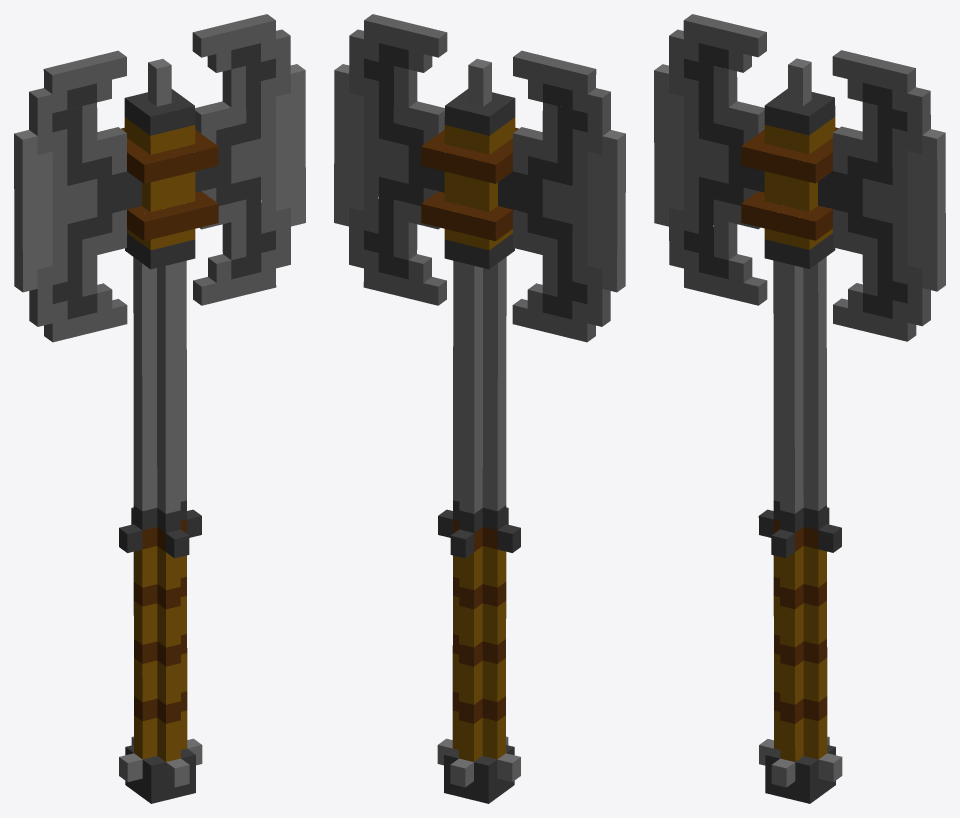
Rendered from largebattlexe.glb.
3 renders of one model, left to right at view 1: azimuth 30°, elevation 25°; view 2: azimuth 150°, elevation 25°; view 3: azimuth 330°, elevation 25°, orthographic.
Visible parts, largest first — view 1: model_0.001; view 2: model_0.001; view 3: model_0.001.
Boxes of the visible parts, <box> form: model_0.001: <box>14,14,305,803</box>; model_0.001: <box>334,14,625,803</box>; model_0.001: <box>654,14,945,803</box>.
Size of the model in its own units: 2.17 by 5.46 by 0.5713.
